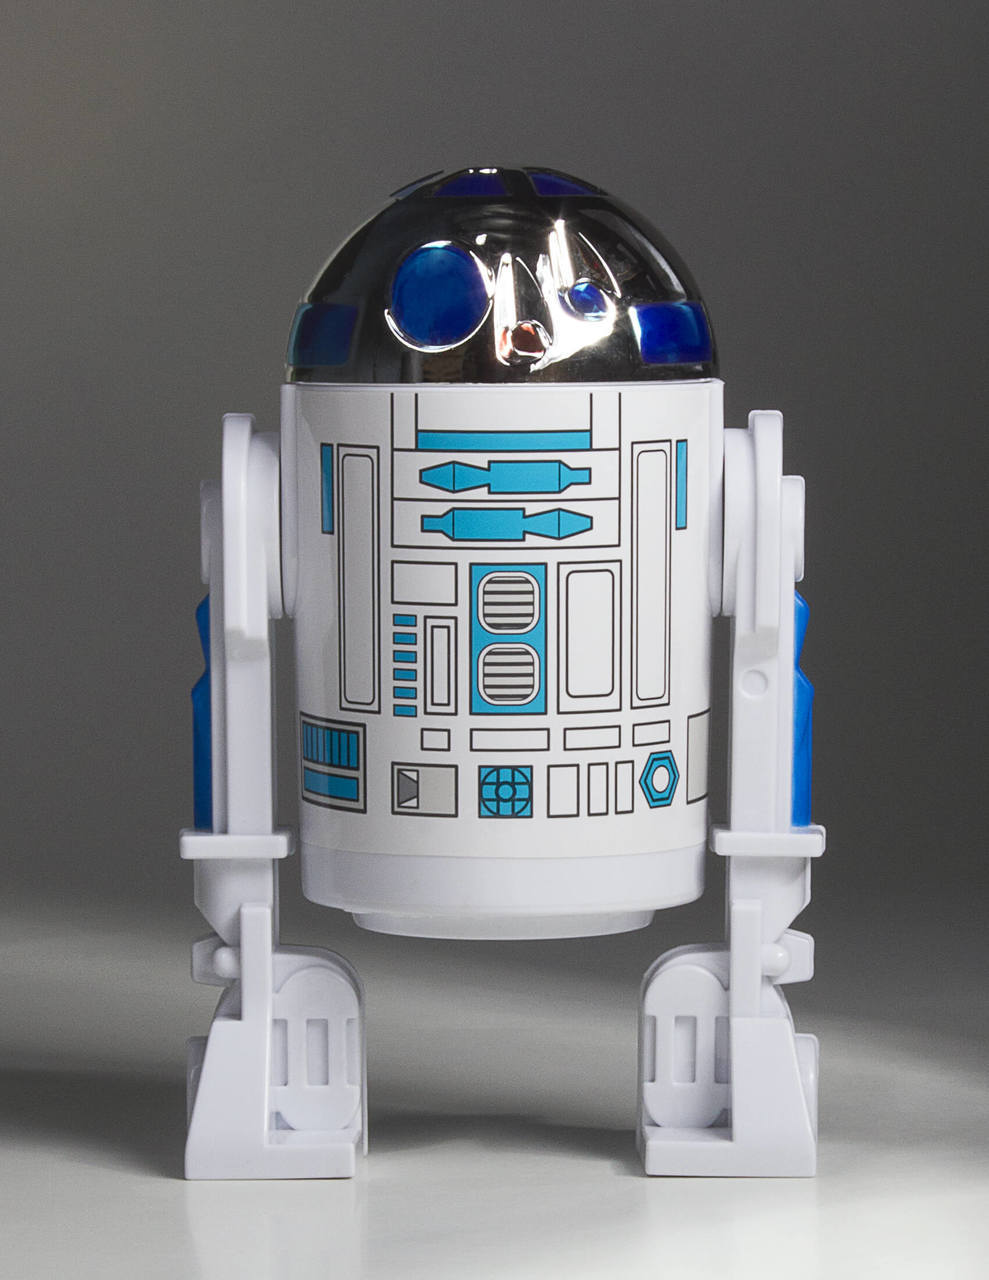r2d2: (185, 165, 816, 1183)
